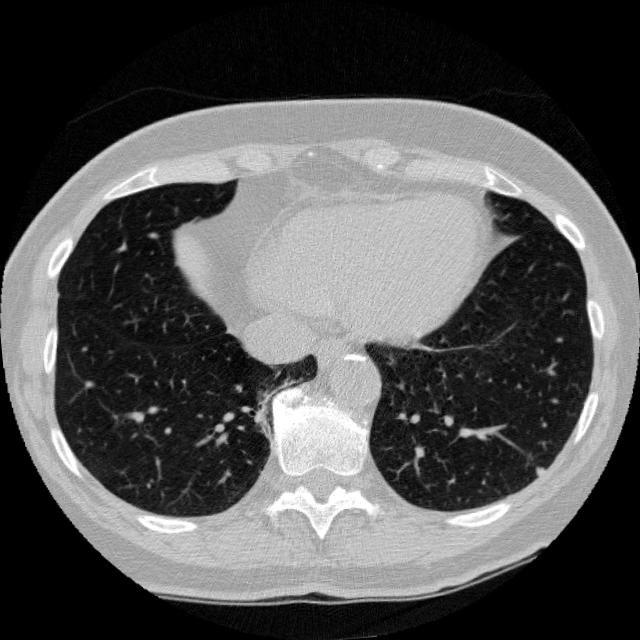nodule: (523, 454, 553, 484)
